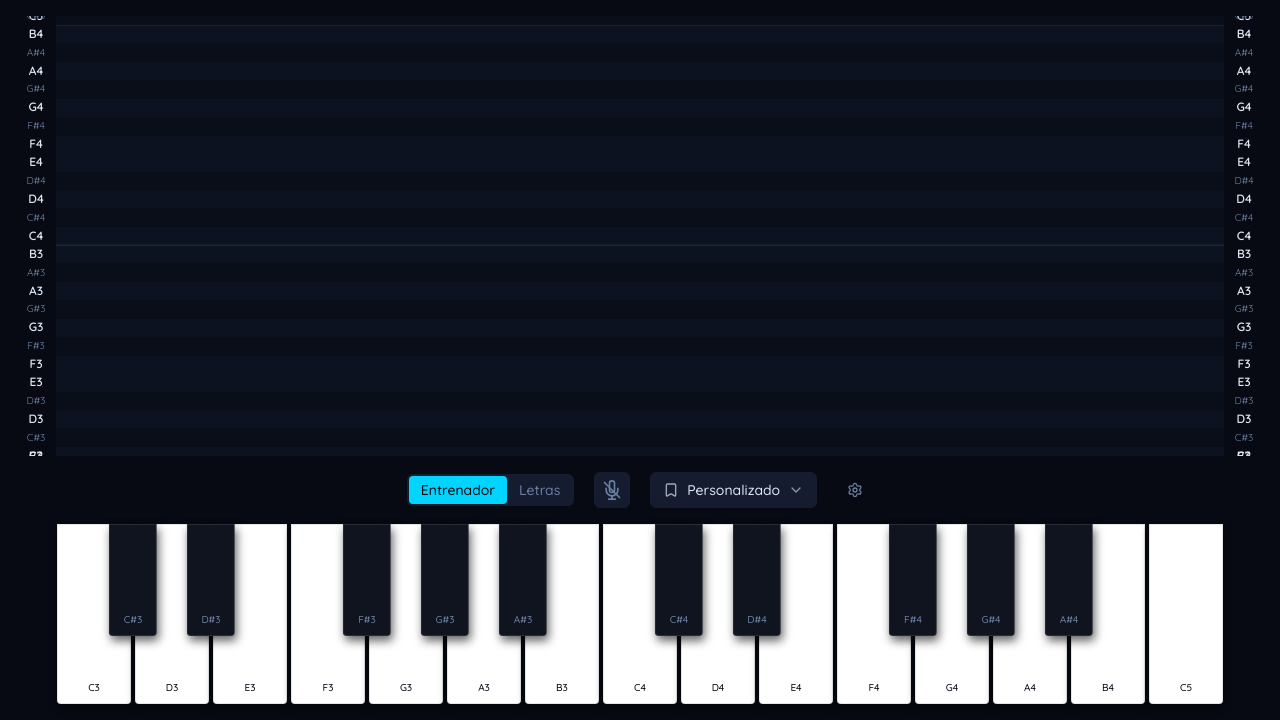
it: el panel de configuración expone lo que se sacó de la barra
Click the button named "Configuración" at coordinates (855, 490), box [837,472,873,508]
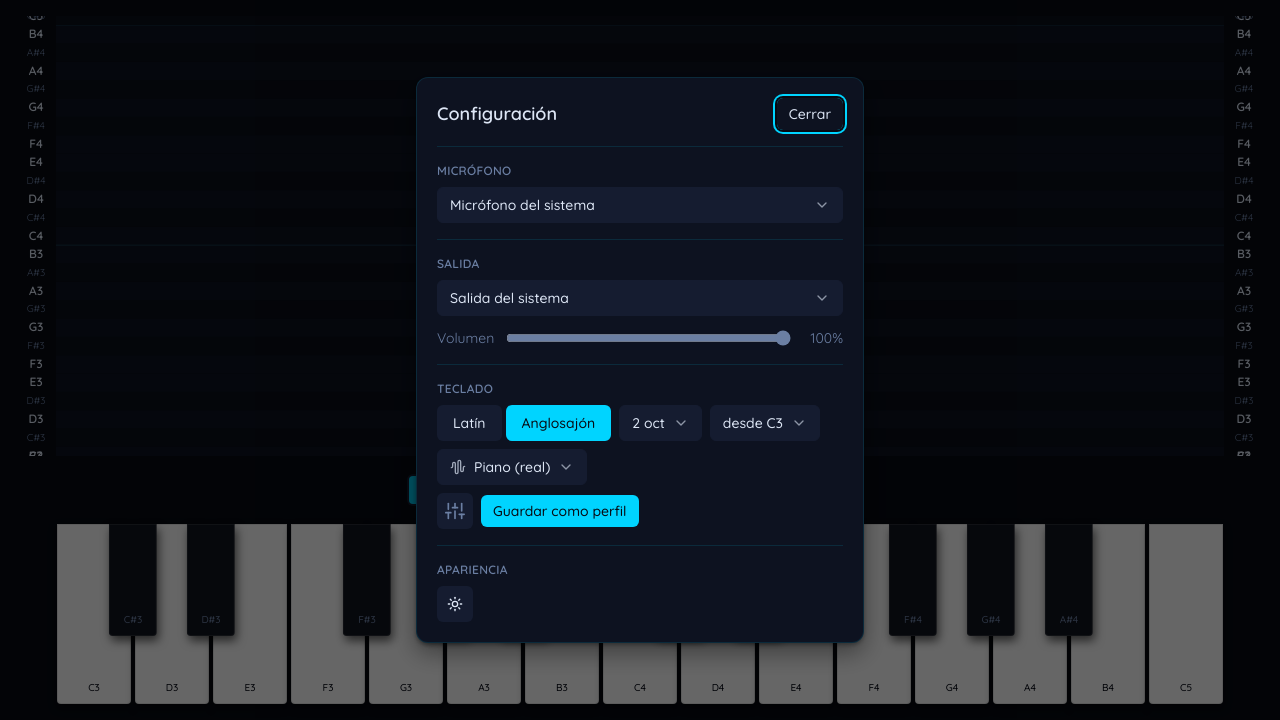
Expected: the button "Anglosajón" is shown, [506,405,611,441]
Expected: the dropdown named "Tipo de sonido" is shown, [437,449,587,485]
Expected: the dropdown labelled "Micrófono" is shown, [437,187,843,223]
